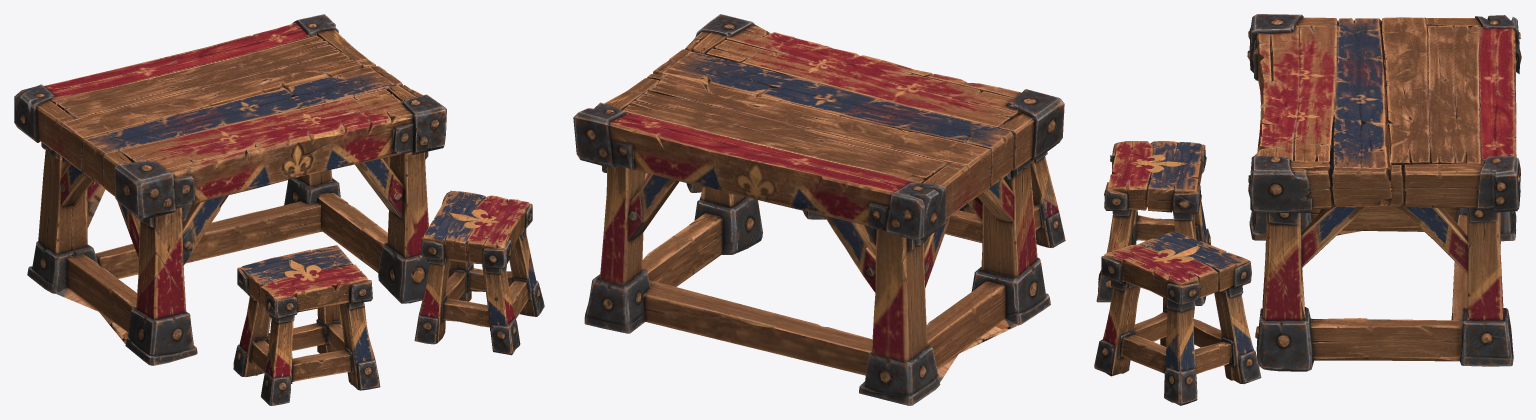
The model's file is table_stools.glb.
3 renders of one model, left to right at view 1: azimuth 30°, elevation 25°; view 2: azimuth 150°, elevation 25°; view 3: azimuth 270°, elevation 25°, orthographic. The views are drawn at different scales.
Visible parts, largest first — view 1: output_unwrapped; view 2: output_unwrapped; view 3: output_unwrapped.
Part boxes in pixels (box(x1,y1,x2,y2)): output_unwrapped: box(14, 14, 544, 405); output_unwrapped: box(573, 14, 1065, 405); output_unwrapped: box(1094, 14, 1521, 405).
Bounding box in the file's own units: 1.9 × 0.9522 × 1.79.
1 material, 1 textured.
